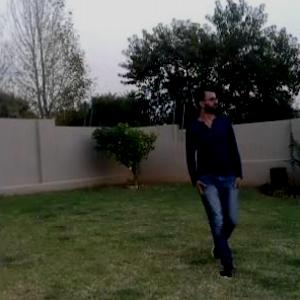follow: (184, 78, 251, 273)
